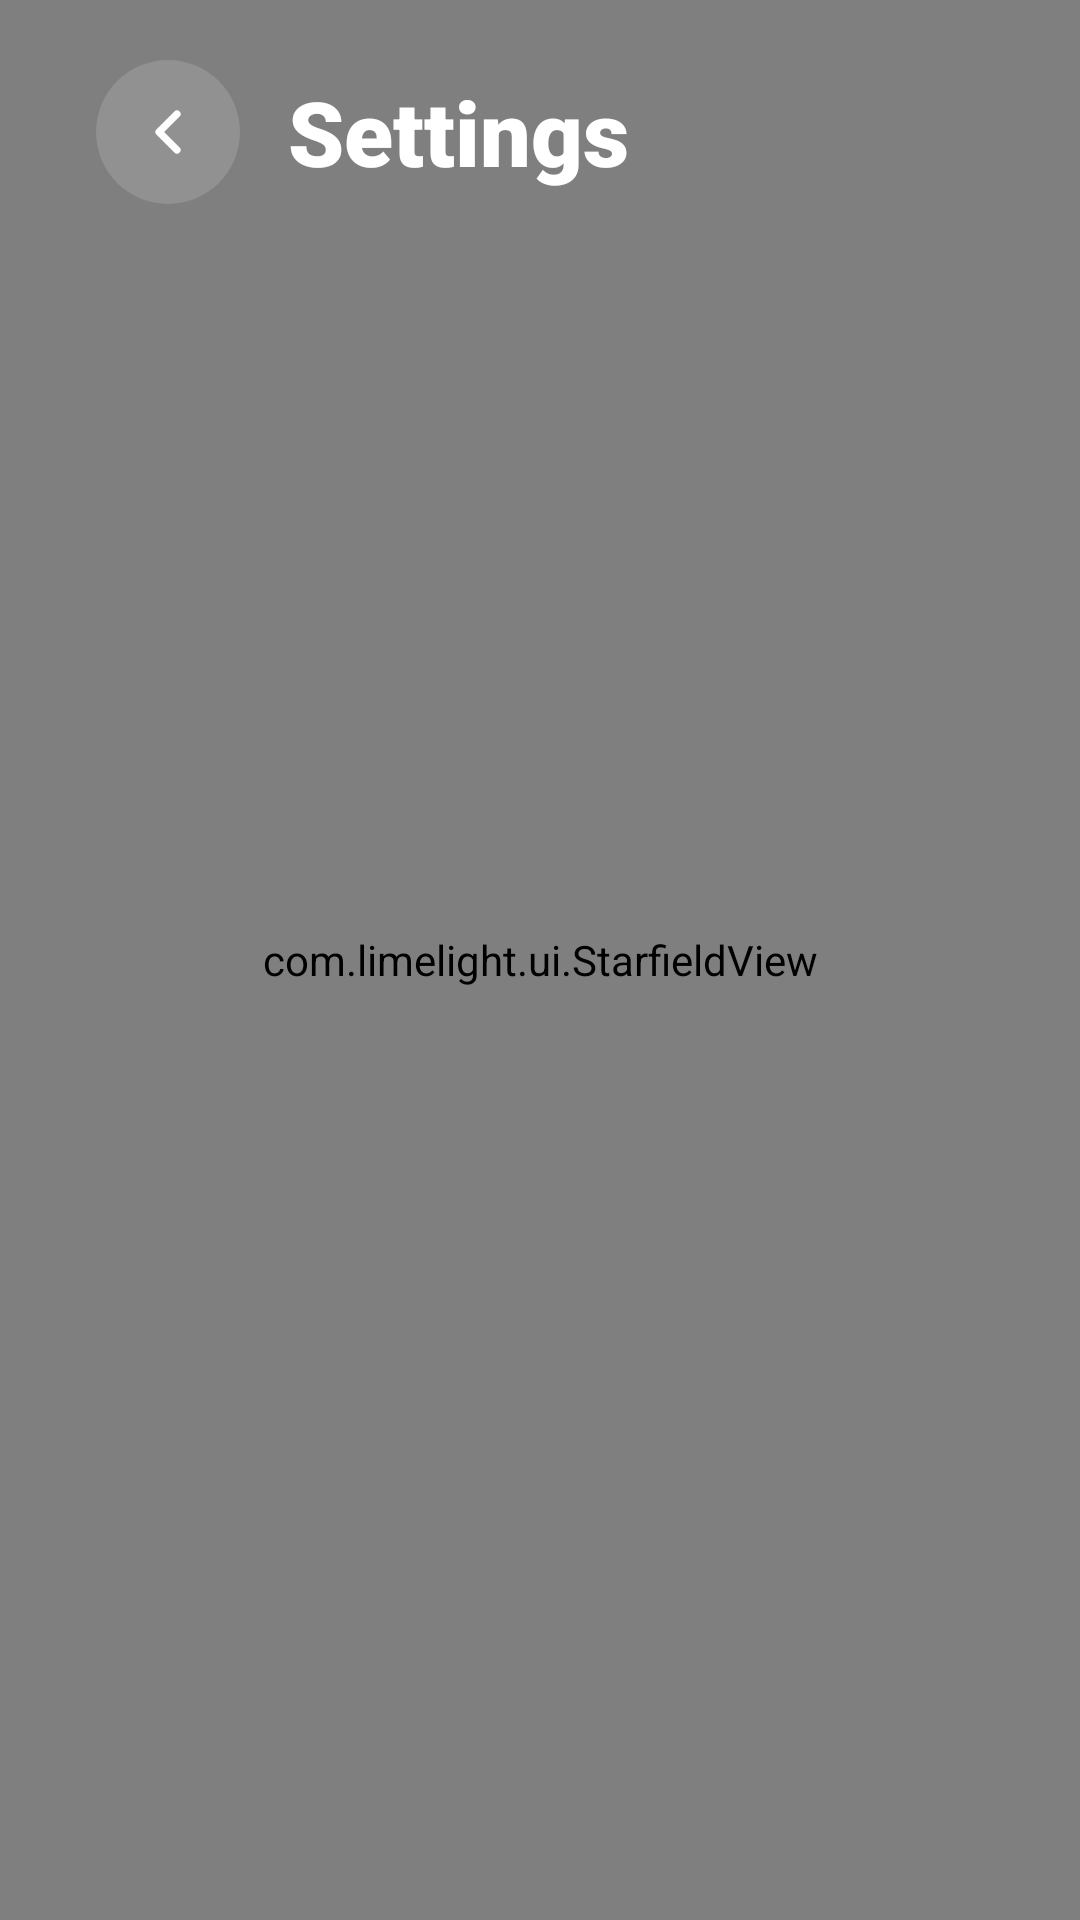

Named icons in this screenshot (1080px x 1920px) and their centers, (x=x, y=y):
Back: (x=168, y=132)
